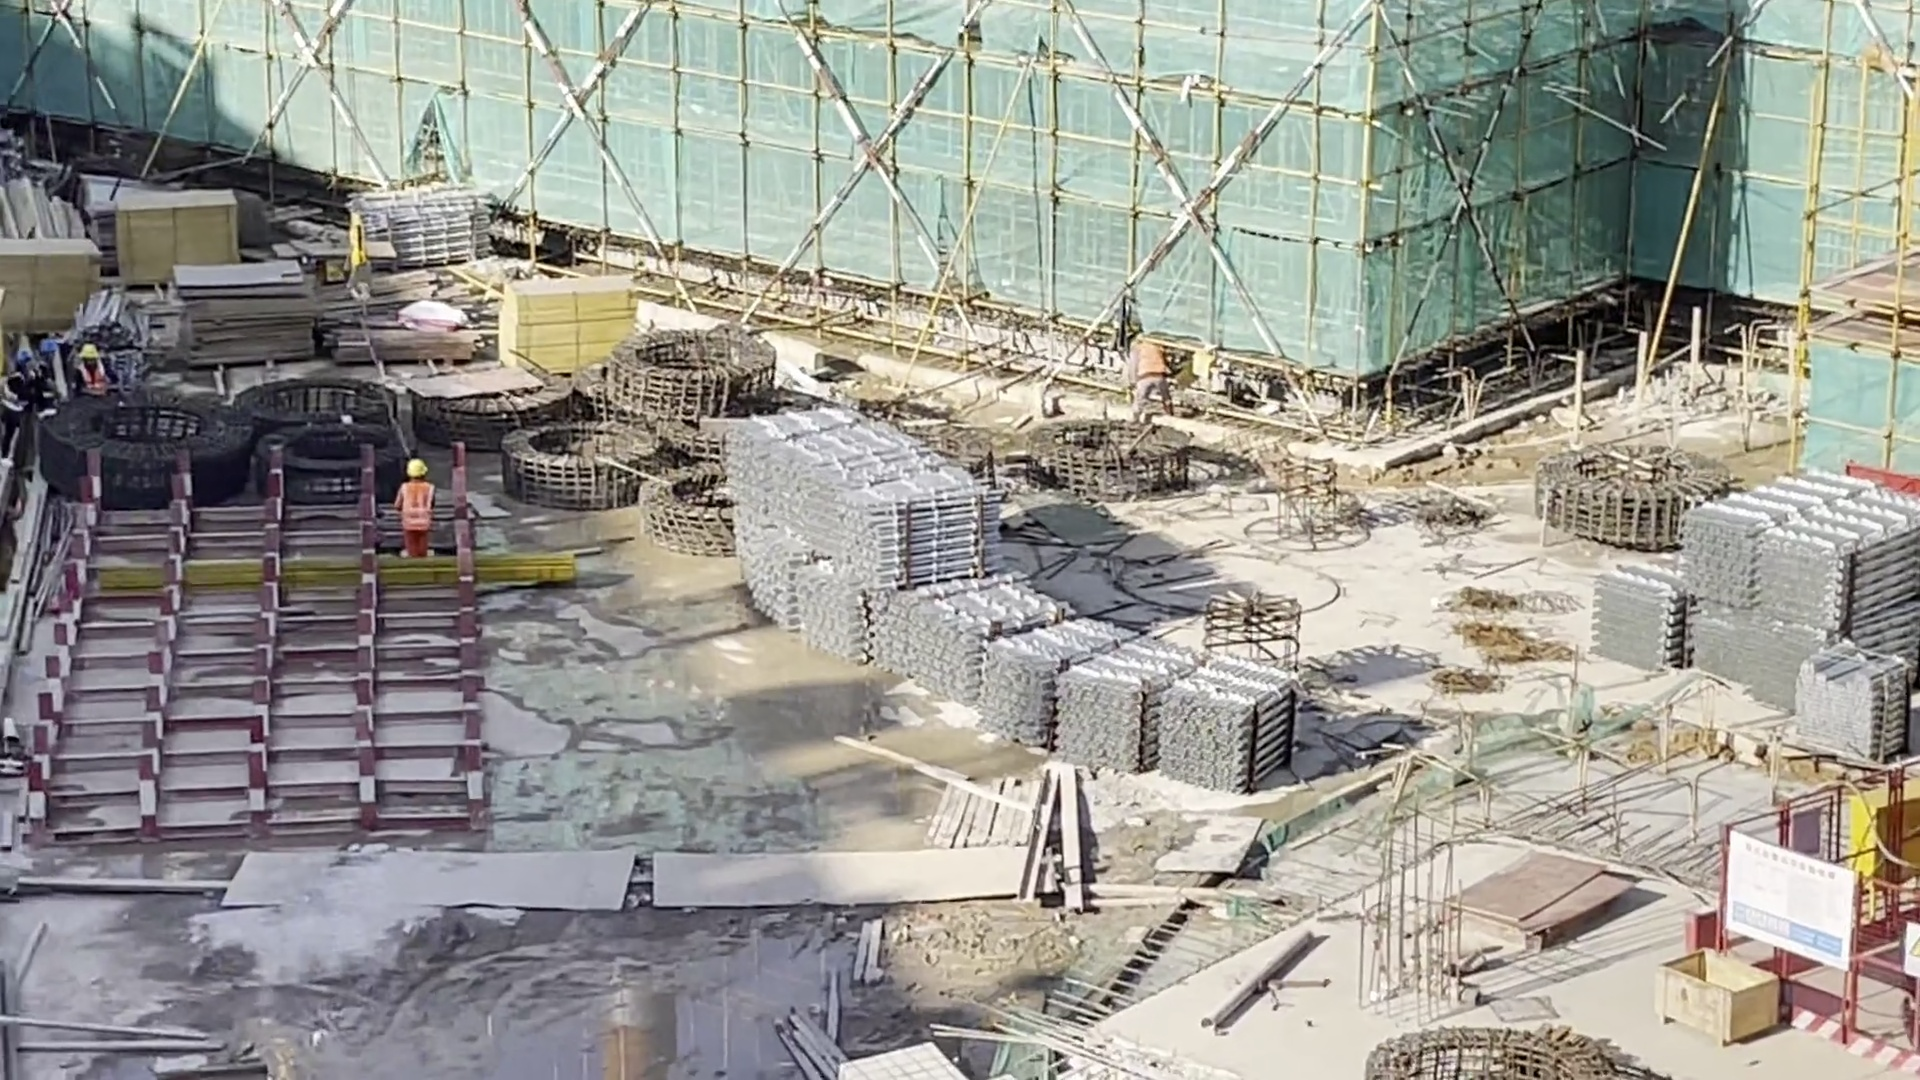board: (1452, 858, 1621, 950), (163, 268, 315, 364), (501, 277, 644, 374), (119, 188, 237, 283), (1, 239, 96, 316)
ebox: (1851, 784, 1919, 889)
helmet: (408, 462, 425, 479), (79, 346, 99, 359)
person: (1117, 333, 1177, 424), (397, 461, 436, 557), (77, 345, 105, 396)
scaffold: (736, 416, 1002, 665), (1681, 469, 1920, 717), (994, 623, 1201, 770), (908, 596, 1073, 706), (1162, 658, 1293, 791), (1792, 639, 1913, 761), (1592, 556, 1690, 676), (355, 188, 492, 264)
slogan: (1906, 922, 1920, 979)
vest: (404, 484, 429, 531), (1136, 342, 1166, 380), (78, 365, 100, 391)
